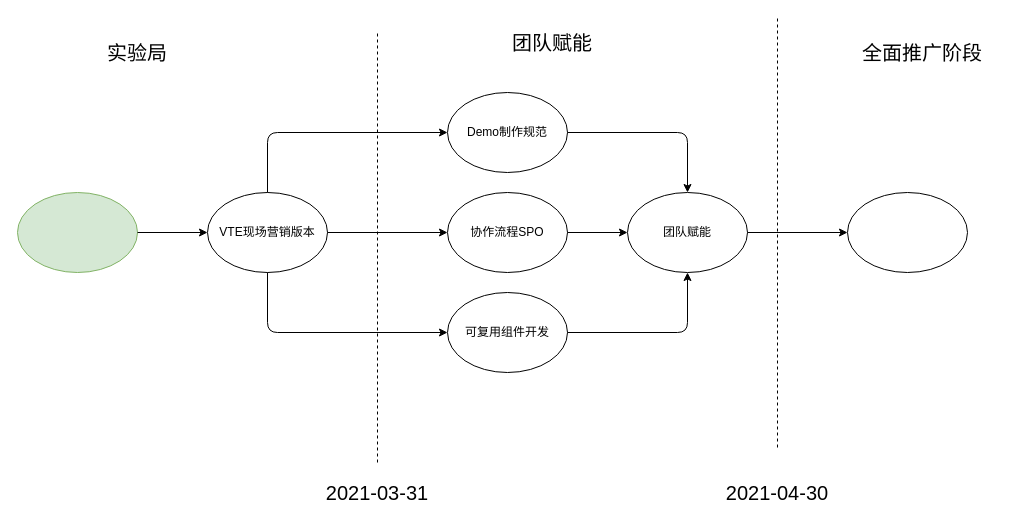
The diagram is 1015 pixels wide and 522 high, and some of its shapes have lost their labels. Each missing label, with the centre of its shape:
"VTE对内展示版本" belongs at (77,232).
"更多的Demo制作" belongs at (907,232).
